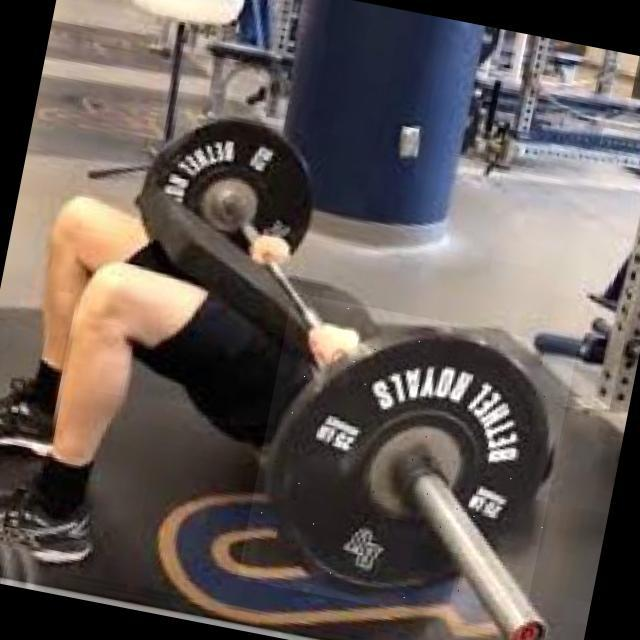barbell: (239, 294, 579, 636)
